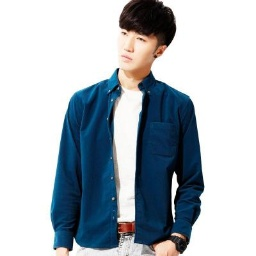face: (116, 1, 177, 76)
